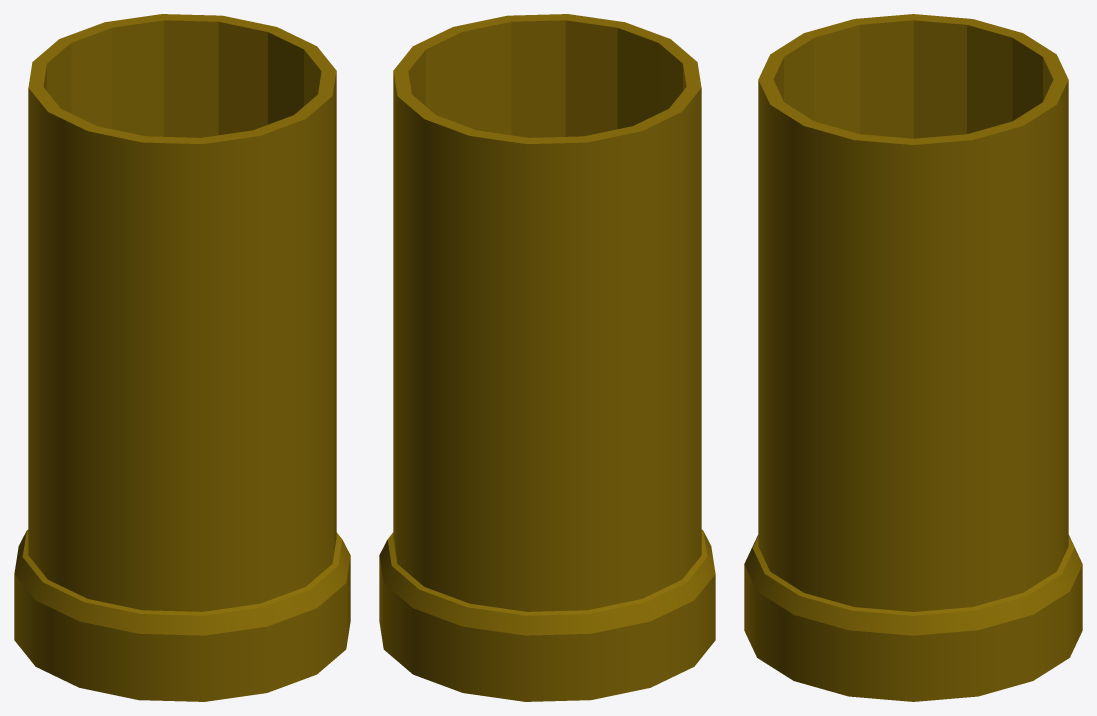
Rendered from bullet_casing.fbx.
3 views of the same model, side by side, from view 1: azimuth 30°, elevation 25°; view 2: azimuth 150°, elevation 25°; view 3: azimuth 270°, elevation 25° (orthographic).
Parts seen in each view (by area): view 1: Casing; view 2: Casing; view 3: Casing.
Boxes of the visible parts, x1,y1,x2,y2 form: Casing: (14,14,350,701); Casing: (379,14,715,701); Casing: (744,14,1082,701).
Bounding box in the file's own units: 21.83 × 39.19 × 21.83.
